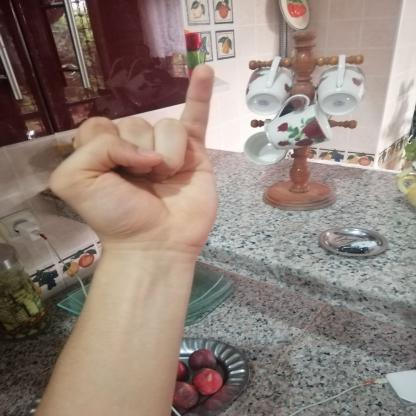MEEM: (31, 53, 248, 263)
